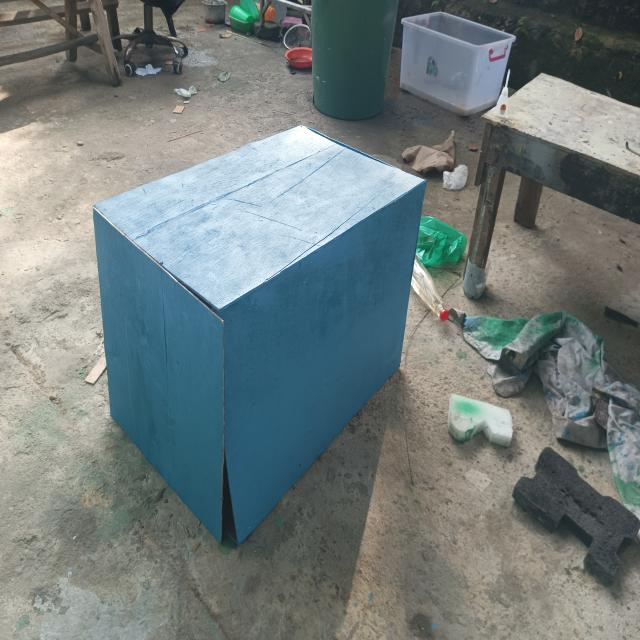blue_box: (96, 120, 431, 553)
